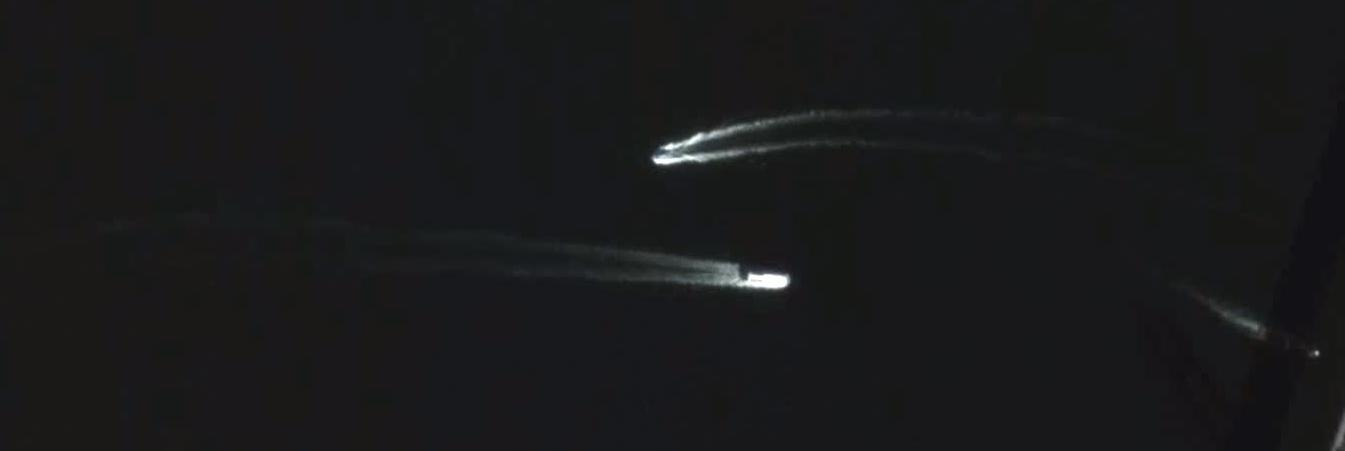person: (747, 270, 791, 290), (1288, 339, 1320, 358), (650, 149, 676, 159)
